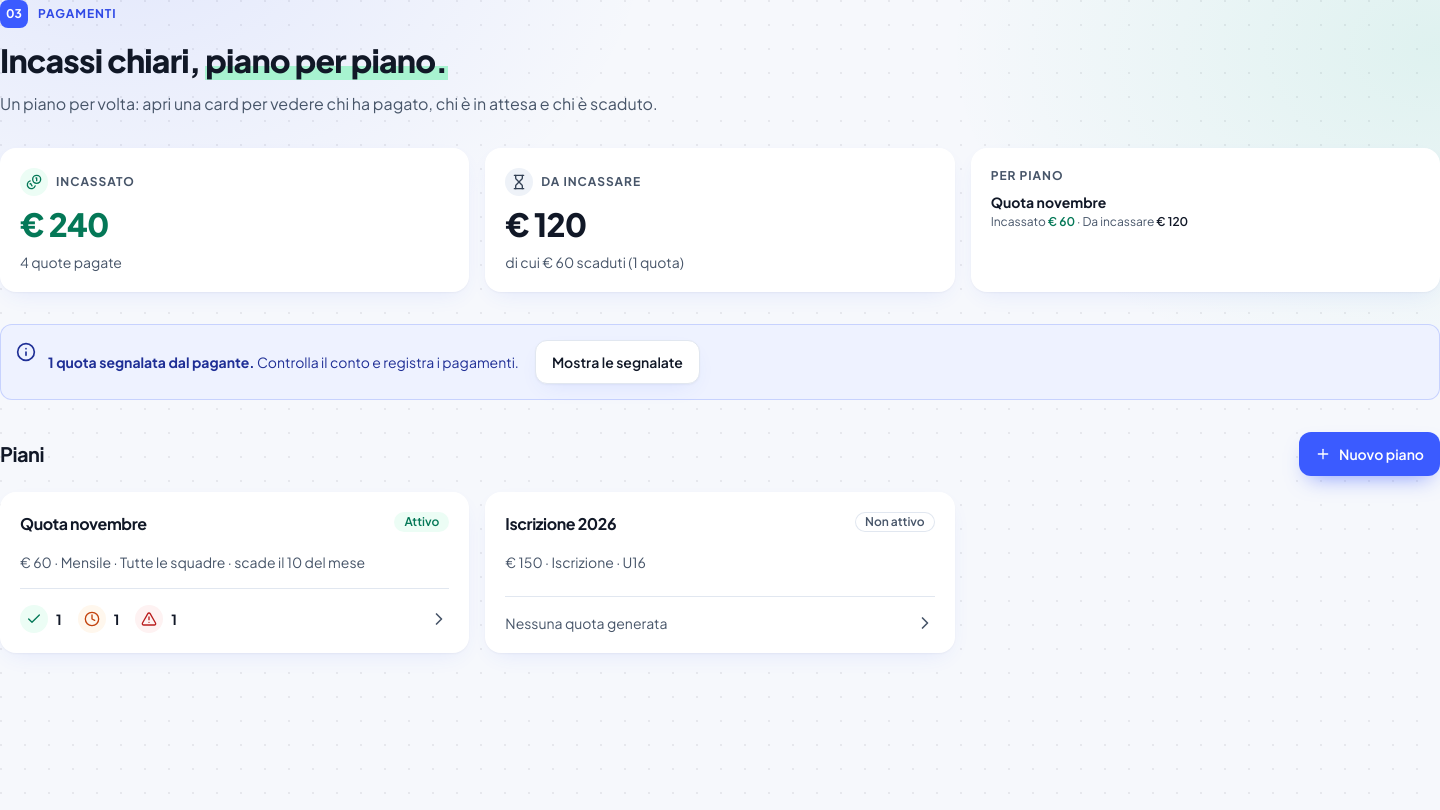
QuotePage for the secretariat: payments reported by the payer › has no accessibility violations with the banner and the dialog open
Click the button "Mostra le segnalate". click: (617,362)
box: [535, 340, 700, 384]
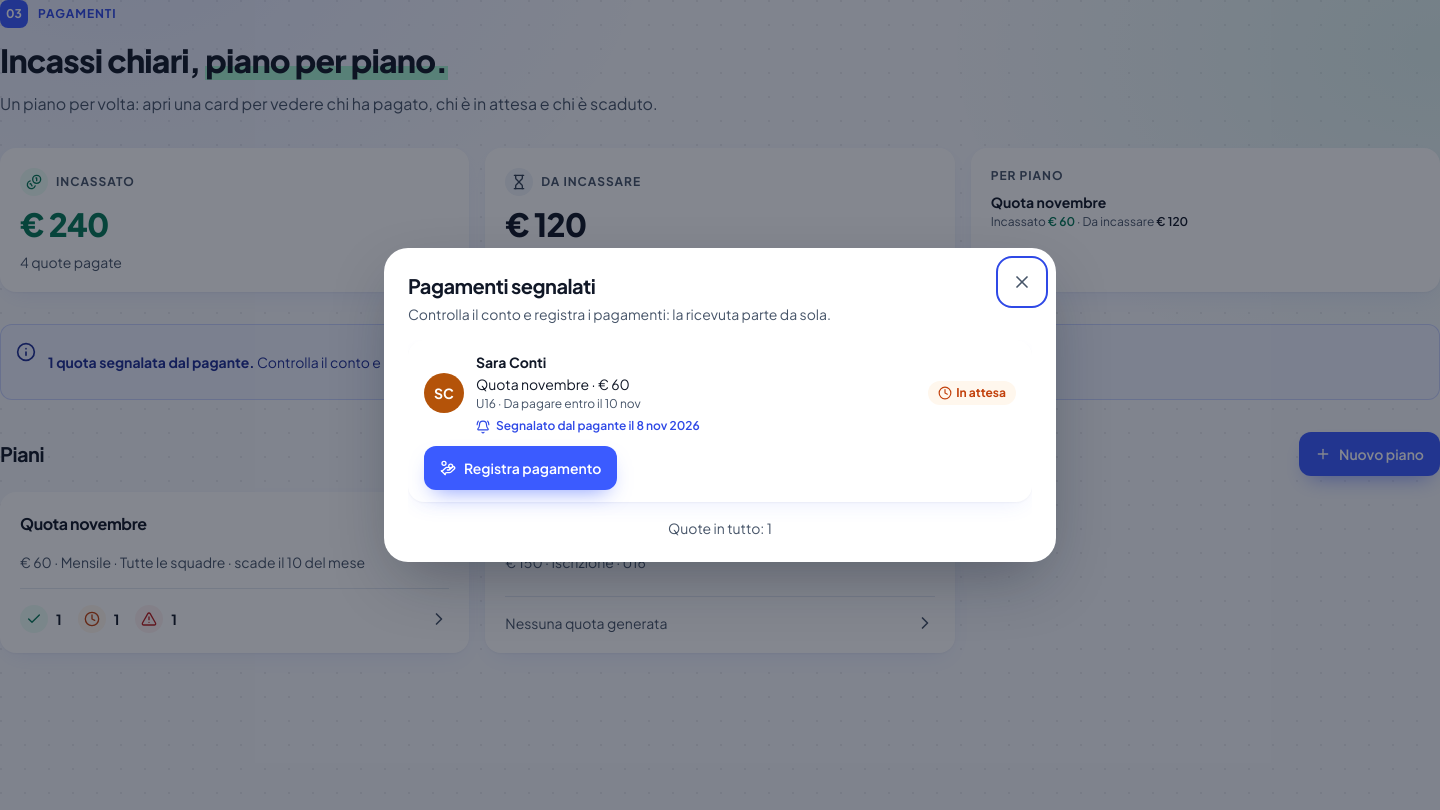
Check: the text "Segnalato dal pagante il 8 nov 2026" is shown, box [476, 418, 700, 434]
